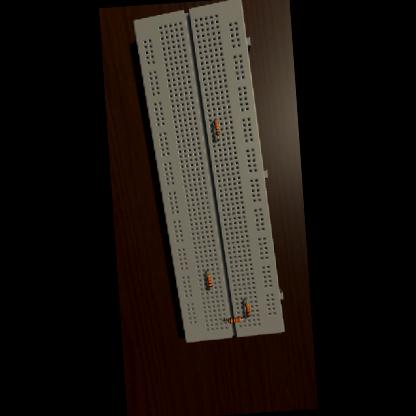breadboard: (131, 0, 285, 343)
resistor: (244, 301, 250, 316), (206, 273, 212, 287), (228, 316, 240, 322), (214, 120, 219, 134)
wire: (224, 318, 228, 321), (207, 268, 208, 274), (242, 315, 244, 318), (245, 297, 246, 302), (209, 287, 210, 289), (248, 316, 249, 317)
